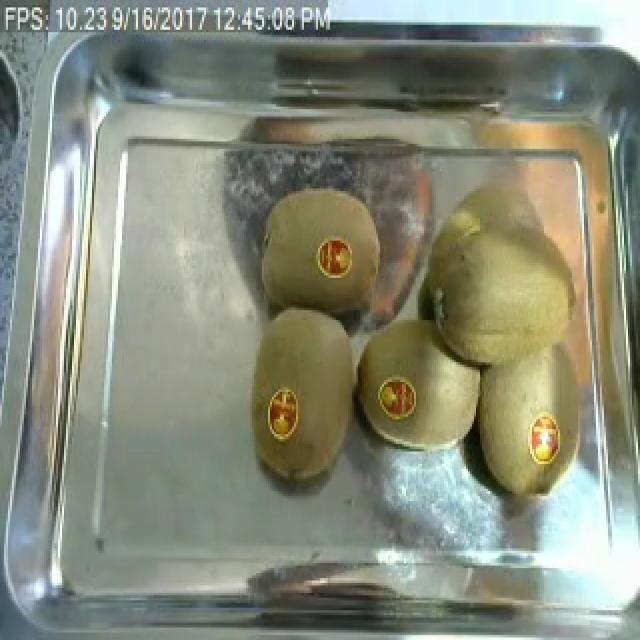Fruit: (410, 129, 608, 384), (248, 297, 370, 488), (520, 402, 572, 486)
